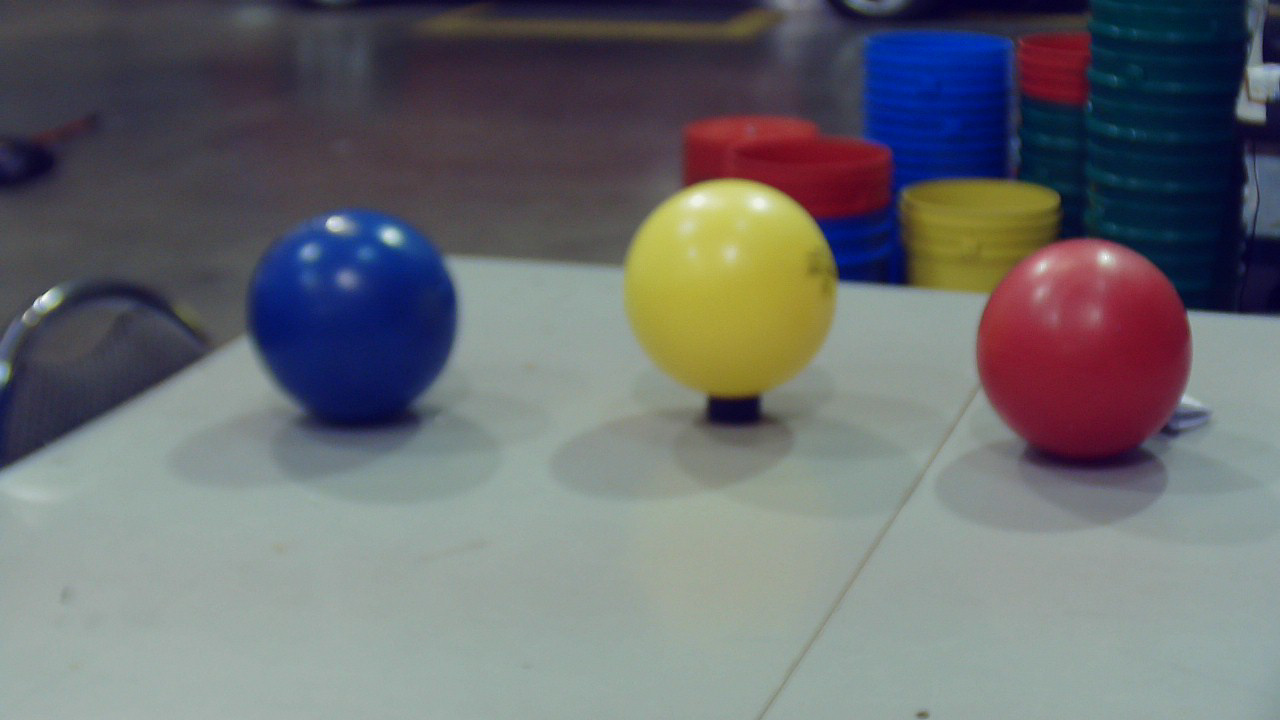blueBall: (247, 208, 464, 434)
redBall: (979, 239, 1200, 473)
yellowBall: (624, 177, 847, 405)
